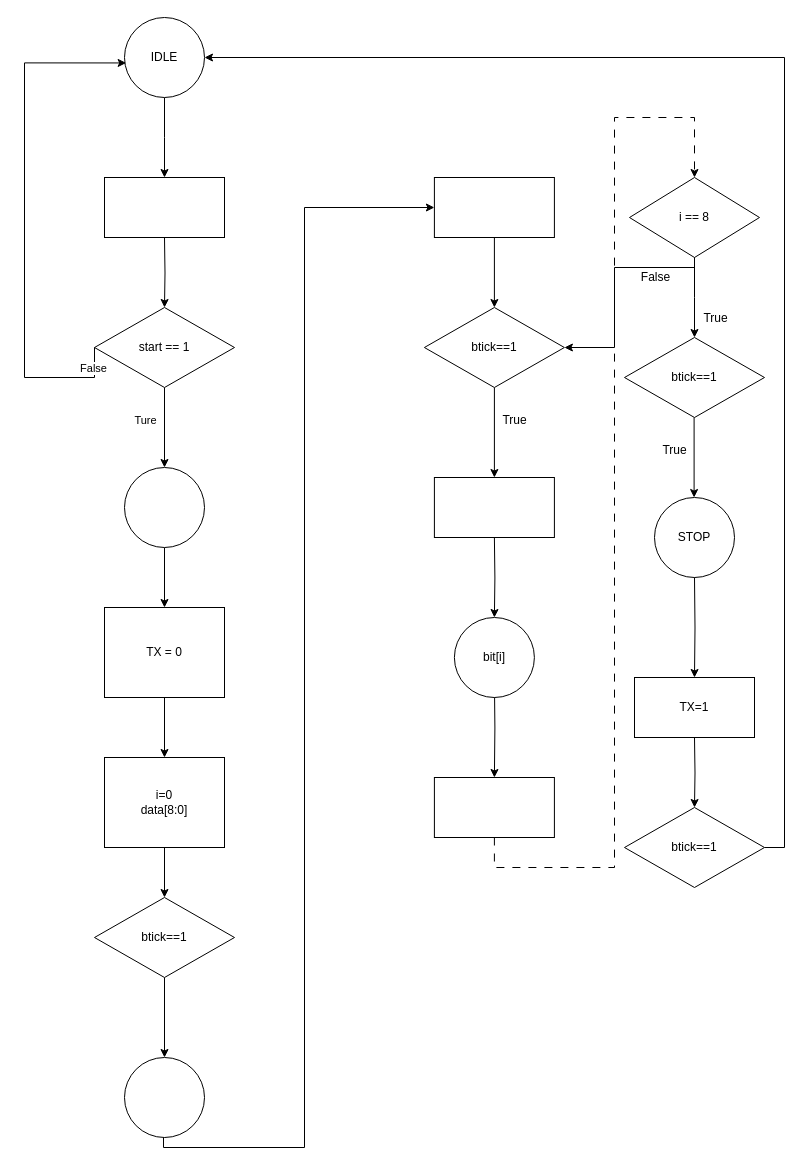
The diagram is 810 pixels wide and 1173 high, and some of its shapes have lost their labels. The shapes that lost their labels are listed below. From the top down, each one's centre as x and y in pixels, then its label:
At point (164, 207): "TX=0".
At point (493, 207): "TX=data[0]".
At point (164, 507): "START".
At point (493, 507): "i++".
At point (493, 807): "TX=data[i]".
At point (164, 1097): "bit[0]".
